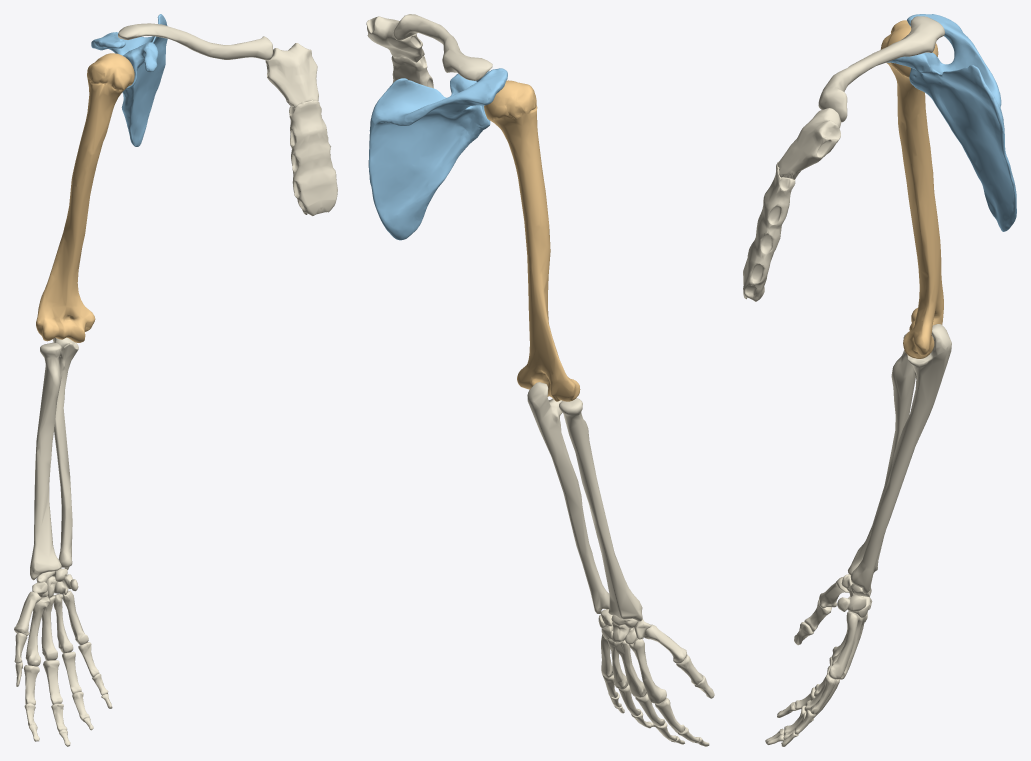
File: shoulder-abduction.glb
The picture shows the model from 3 angles, left to right: view 1: azimuth 30°, elevation 25°; view 2: azimuth 150°, elevation 25°; view 3: azimuth 270°, elevation 25°; orthographic projection. The views are drawn at different scales.
Parts seen in each view (by area): view 1: Humerus.r — shoulder study, Sternum — shoulder study, Radius.r — shoulder study, Scapula.r — shoulder study, Ulna.r — shoulder study, Manubrium of sternum — shoulder study, Clavicle.r — shoulder study, Second metacarpal bone.r — shoulder study, Third metacarpal bone.l — shoulder study, Fourth metacarpal bone — shoulder study, Fifth metacarpal bone.r — shoulder study, Proximal phalanx of third finger of hand — shoulder study (+1 smaller); view 2: Scapula.r — shoulder study, Humerus.r — shoulder study, Ulna.r — shoulder study, Radius.r — shoulder study, Clavicle.r — shoulder study, Manubrium of sternum — shoulder study, Sternum — shoulder study, Second metacarpal bone.r — shoulder study, Third metacarpal bone.l — shoulder study, First metacarpal bone — shoulder study; view 3: Scapula.r — shoulder study, Humerus.r — shoulder study, Ulna.r — shoulder study, Sternum — shoulder study, Clavicle.r — shoulder study, Manubrium of sternum — shoulder study, Radius.r — shoulder study, Fifth metacarpal bone.r — shoulder study, First metacarpal bone — shoulder study.
Boxes of the visible parts, x1,y1,x2,y2 form: Humerus.r — shoulder study: (36,53,134,342); Sternum — shoulder study: (289,99,337,216); Radius.r — shoulder study: (30,342,61,580); Scapula.r — shoulder study: (91,14,167,146); Ulna.r — shoulder study: (53,337,78,569); Manubrium of sternum — shoulder study: (265,43,318,107); Clavicle.r — shoulder study: (118,23,272,60); Second metacarpal bone.r — shoulder study: (25,597,49,666); Third metacarpal bone.l — shoulder study: (41,596,57,660); Fourth metacarpal bone — shoulder study: (53,594,73,653); Fifth metacarpal bone.r — shoulder study: (62,590,88,645); Proximal phalanx of third finger of hand — shoulder study: (43,660,62,704); Scapula.r — shoulder study: (368,68,507,240); Humerus.r — shoulder study: (484,80,580,401); Ulna.r — shoulder study: (527,382,609,613); Radius.r — shoulder study: (559,398,642,621); Clavicle.r — shoulder study: (393,14,492,80); Manubrium of sternum — shoulder study: (366,16,424,62); Sternum — shoulder study: (391,55,433,88); Second metacarpal bone.r — shoulder study: (629,638,666,703); Third metacarpal bone.l — shoulder study: (614,640,646,697); First metacarpal bone — shoulder study: (644,624,686,663); Scapula.r — shoulder study: (887,14,1016,231); Humerus.r — shoulder study: (880,20,943,358); Ulna.r — shoulder study: (850,324,951,593); Sternum — shoulder study: (743,161,795,301); Clavicle.r — shoulder study: (818,16,944,122); Manubrium of sternum — shoulder study: (777,108,840,179); Radius.r — shoulder study: (848,333,915,575); Fifth metacarpal bone.r — shoulder study: (828,611,859,679); First metacarpal bone — shoulder study: (819,577,849,607).
Bounding box in the file's own units: 0.3647 × 0.7264 × 0.225.
